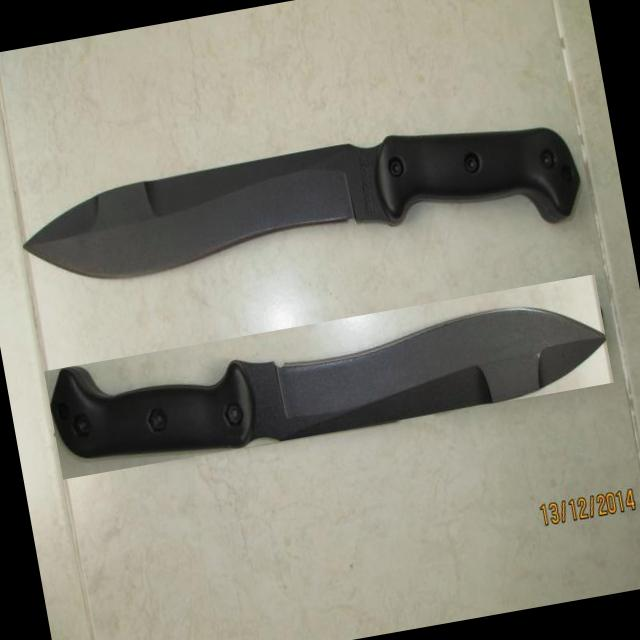Knife: (24, 127, 579, 278), (51, 309, 606, 457)
